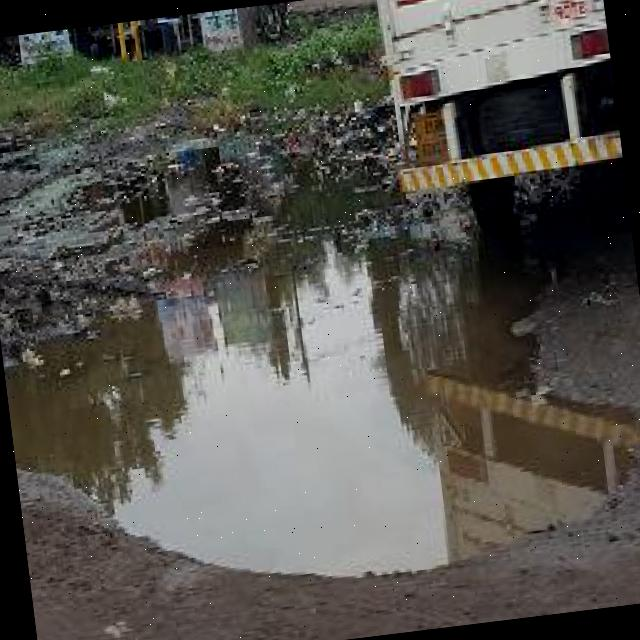stagnation: (2, 194, 640, 606)
